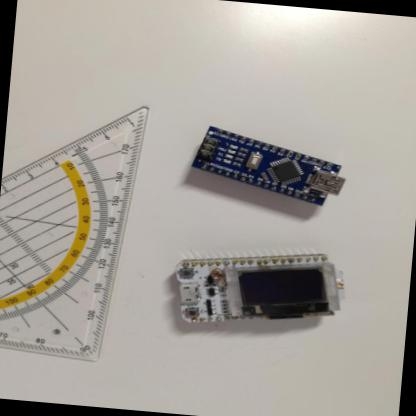Arduino_Nano: (187, 121, 351, 223)
Heltec_ESP32_Lora: (169, 240, 355, 342)
